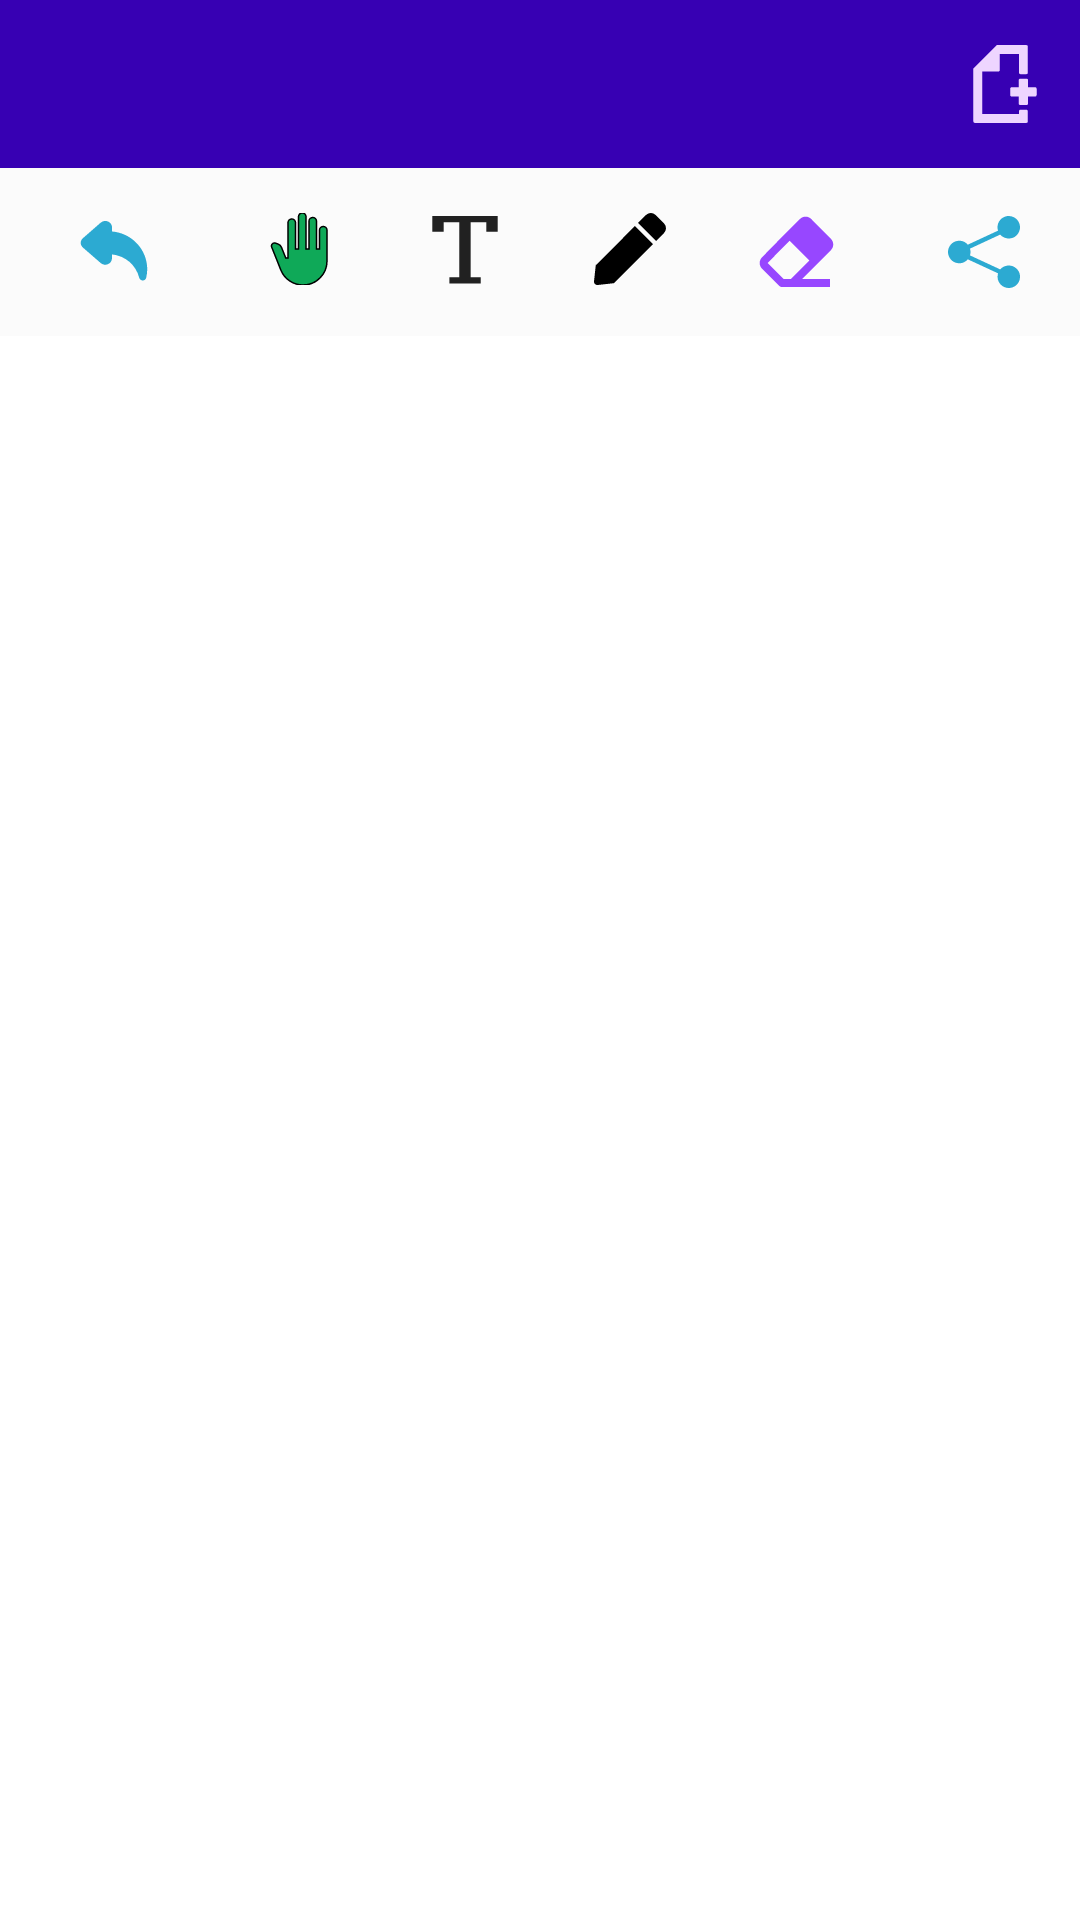

Where icons sit on this 1080 × 1920 app screen, as [left=x1, top=y1, right=x2, bottom=y2]:
add page: [left=973, top=45, right=1037, bottom=123]
eraser: [left=759, top=216, right=834, bottom=287]
hand cursor: [left=270, top=213, right=328, bottom=285]
share: [left=948, top=216, right=1020, bottom=288]
stylus: [left=594, top=213, right=666, bottom=285]
text: [left=432, top=216, right=498, bottom=284]
undo: [left=80, top=221, right=148, bottom=281]
